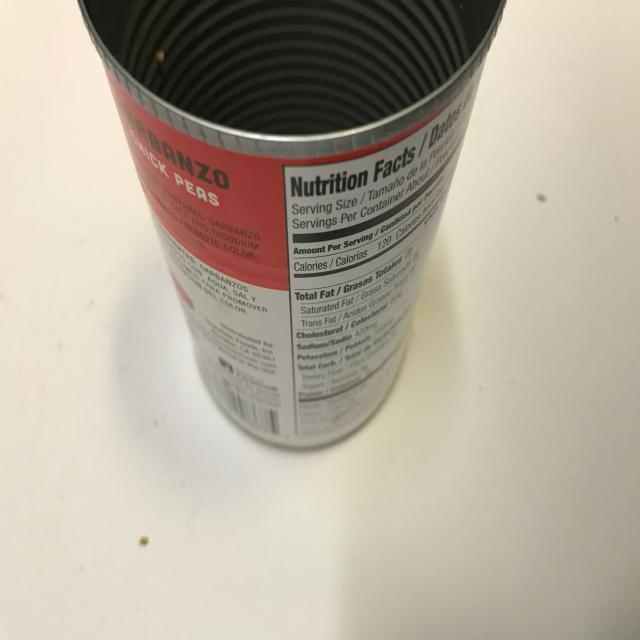metal: (76, 0, 506, 452)
